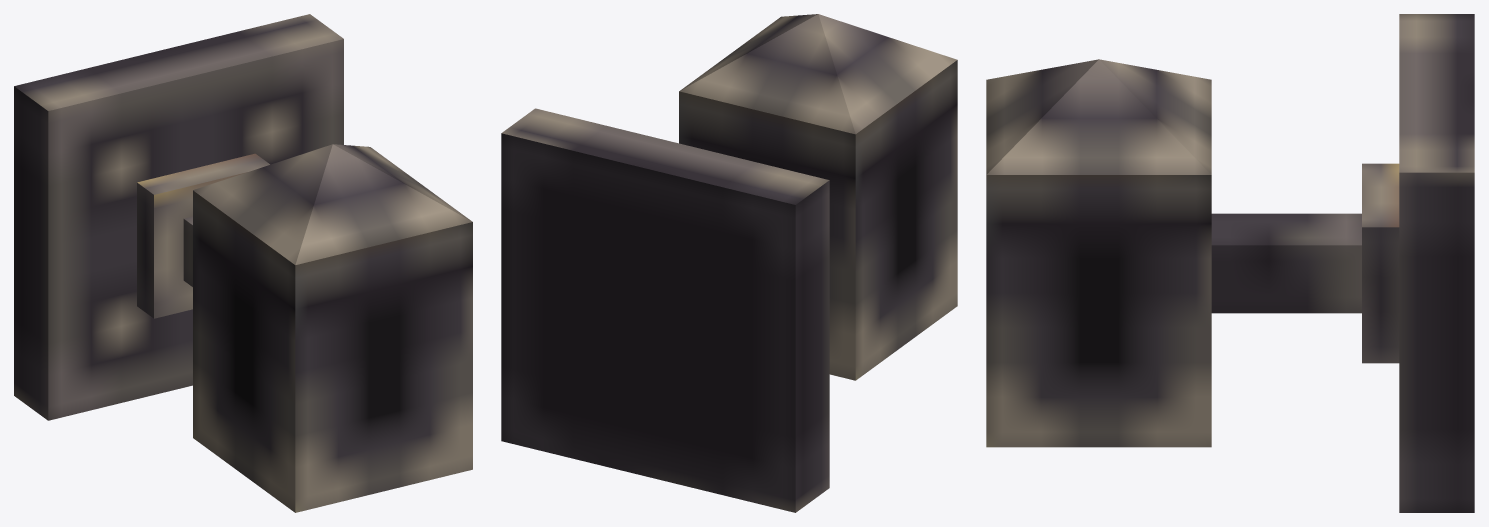
Rendered from lantern_01.fbx.
3 views of the same model, side by side, from view 1: azimuth 30°, elevation 25°; view 2: azimuth 150°, elevation 25°; view 3: azimuth 270°, elevation 25° (orthographic). The views are drawn at different scales.
Parts seen in each view (by area): view 1: lantern_01; view 2: lantern_01; view 3: lantern_01.
Boxes of the visible parts, x1,y1,x2,y2 form: lantern_01: (14,14,472,512); lantern_01: (501,14,957,512); lantern_01: (986,14,1474,512).
Bounding box in the file's own units: 10 × 11 × 13.
